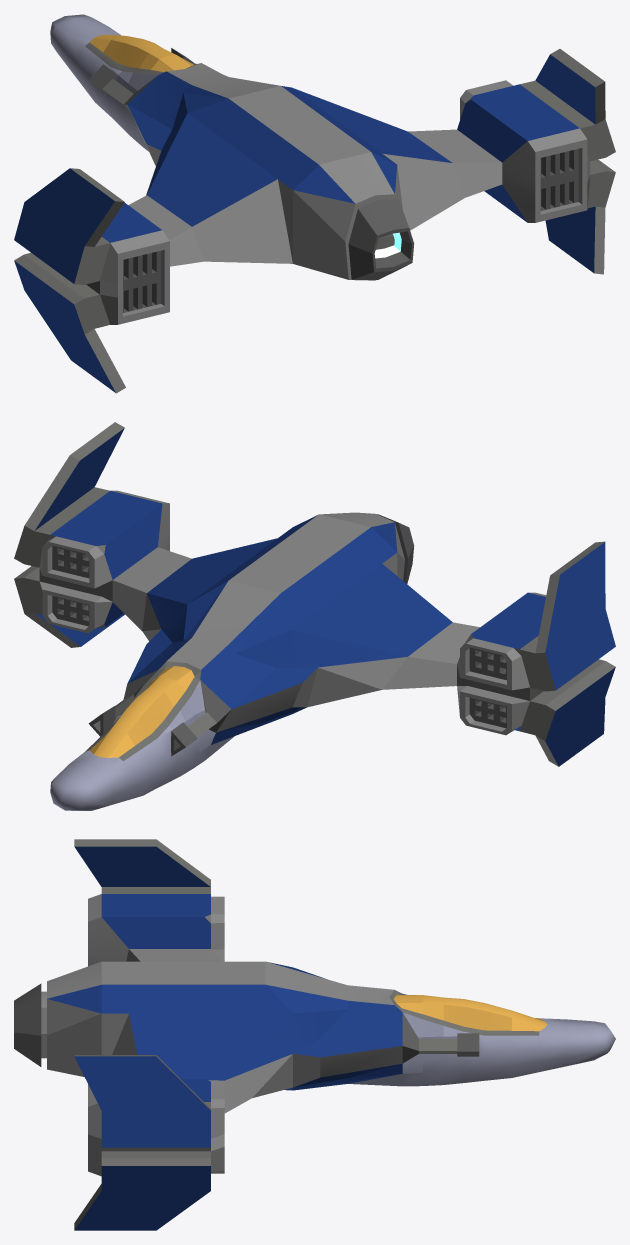
The model's file is Mx4-Lancer-Ship-v01.glb.
3 renders of one model, top to bottom at view 1: azimuth 30°, elevation 25°; view 2: azimuth 150°, elevation 25°; view 3: azimuth 270°, elevation 25°, orthographic. The views are drawn at different scales.
Parts seen in each view (by area): view 1: Cube; view 2: Cube; view 3: Cube.
Part boxes in pixels (x1,y1,x2,y2): Cube: (14, 14, 615, 393); Cube: (14, 422, 615, 810); Cube: (14, 839, 615, 1230).
Bounding box in the file's own units: 20.76 × 7.05 × 22.
